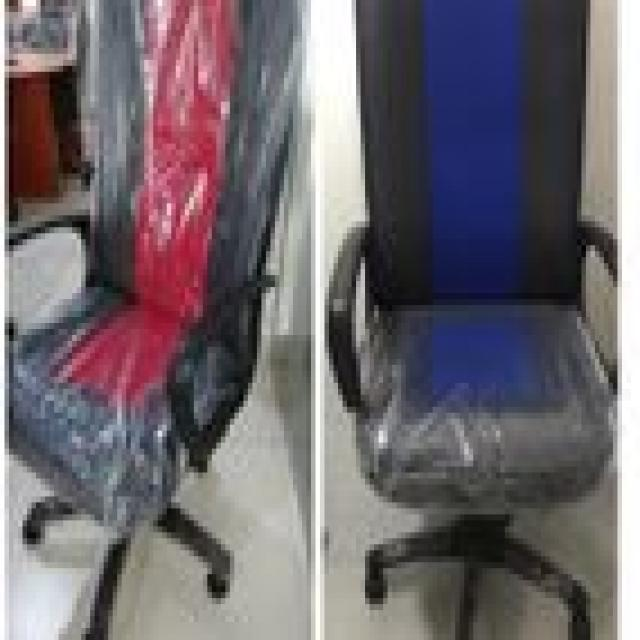others: (4, 6, 626, 640)
